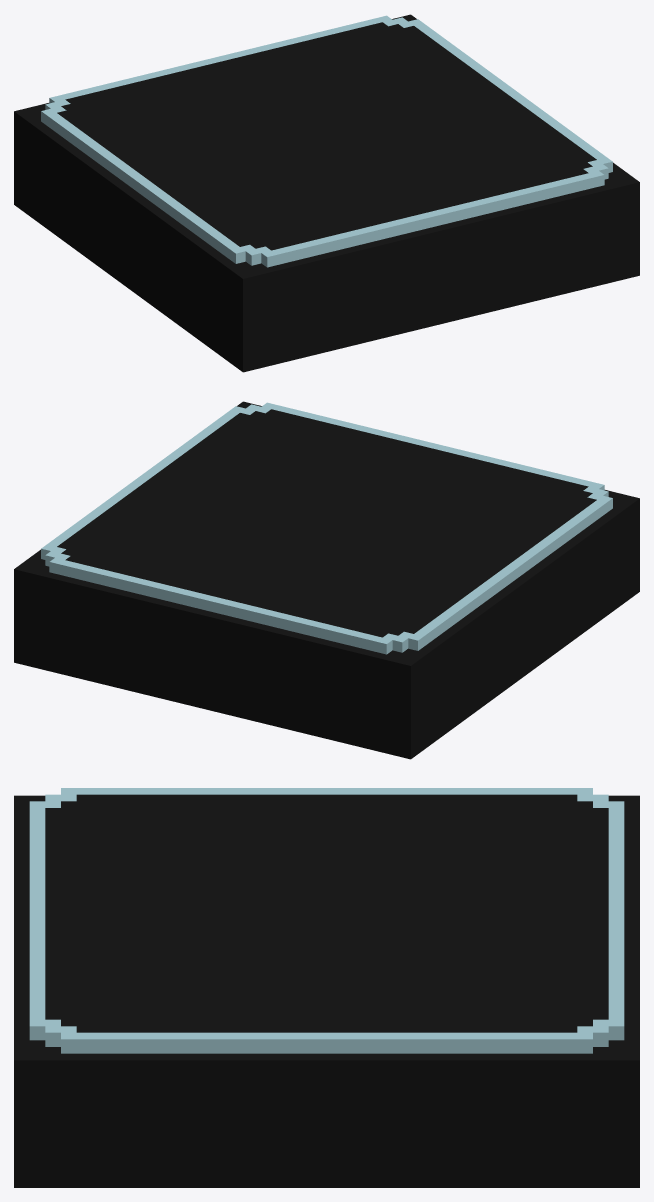
The model's file is Slab.obj.
3 views of the same model, one above another, from view 1: azimuth 30°, elevation 25°; view 2: azimuth 150°, elevation 25°; view 3: azimuth 270°, elevation 25° (orthographic). The views are drawn at different scales.
Bounding box in the file's own units: 4 × 1 × 4.
Materials: 1 (1 with a texture image).
